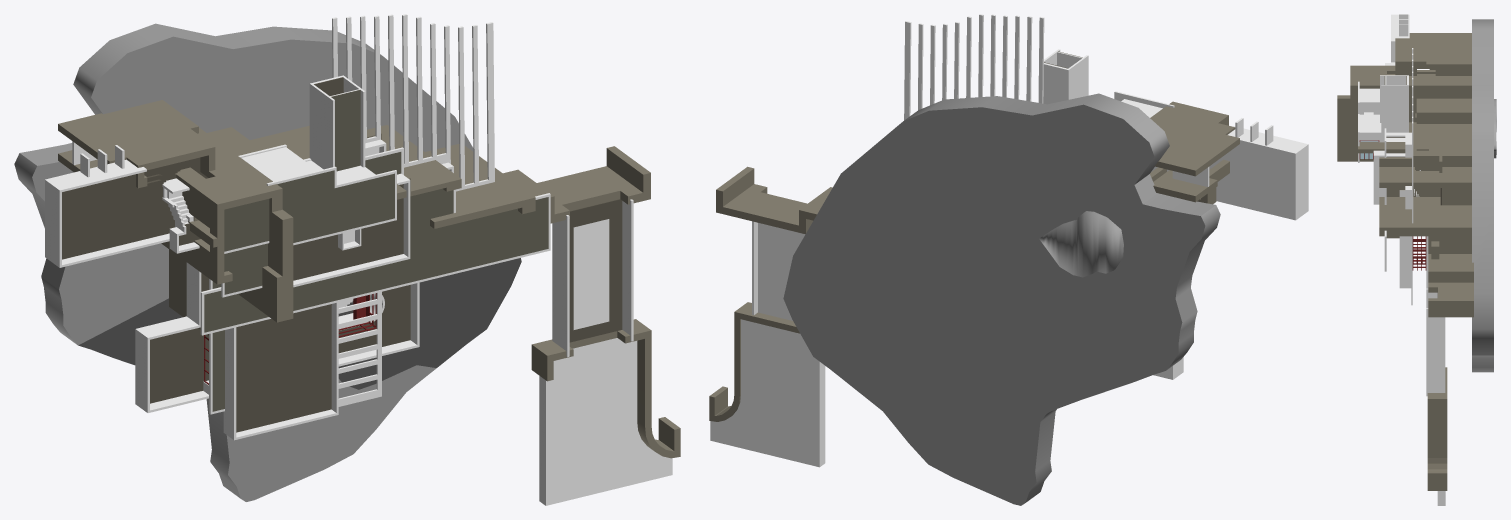
Rendered from fallingwater.dae.
3 views of the same model, side by side, from view 1: azimuth 30°, elevation 25°; view 2: azimuth 150°, elevation 25°; view 3: azimuth 270°, elevation 25° (orthographic). The views are drawn at different scales.
Visible parts, largest first — view 1: Model; view 2: Model; view 3: Model.
Part boxes in pixels (x1=…): Model: x1=14, y1=14, x2=680, y2=505; Model: x1=709, y1=14, x2=1308, y2=505; Model: x1=1337, y1=14, x2=1496, y2=505.
Size of the model in its own units: 1809 by 1486 by 617.
